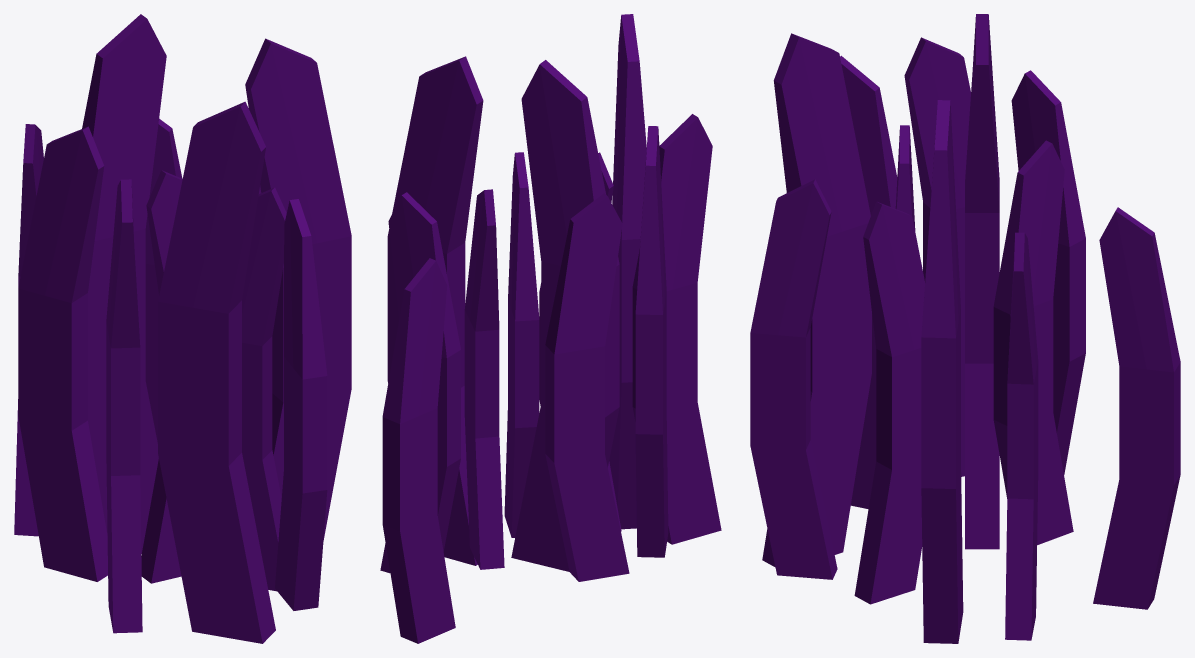
The model's file is BlackGrass1.fbx.
3 views of the same model, side by side, from view 1: azimuth 30°, elevation 25°; view 2: azimuth 150°, elevation 25°; view 3: azimuth 270°, elevation 25° (orthographic). The views are drawn at different scales.
Parts seen in each view (by area): view 1: Cube.018; view 2: Cube.018; view 3: Cube.018.
Part boxes in pixels (x1,y1,x2,y2): Cube.018: (14,14,351,643); Cube.018: (380,14,721,643); Cube.018: (750,14,1180,643).
Size of the model in its own units: 36.6 by 65 by 45.03.
